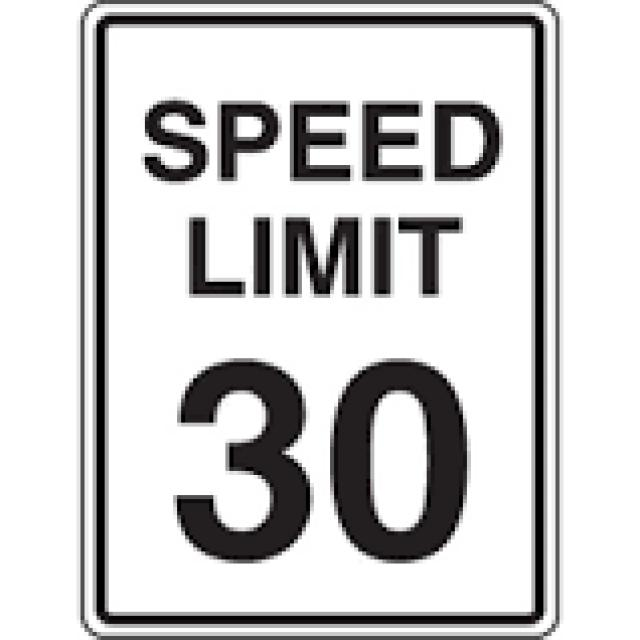speedLimit30: (77, 4, 560, 636)
